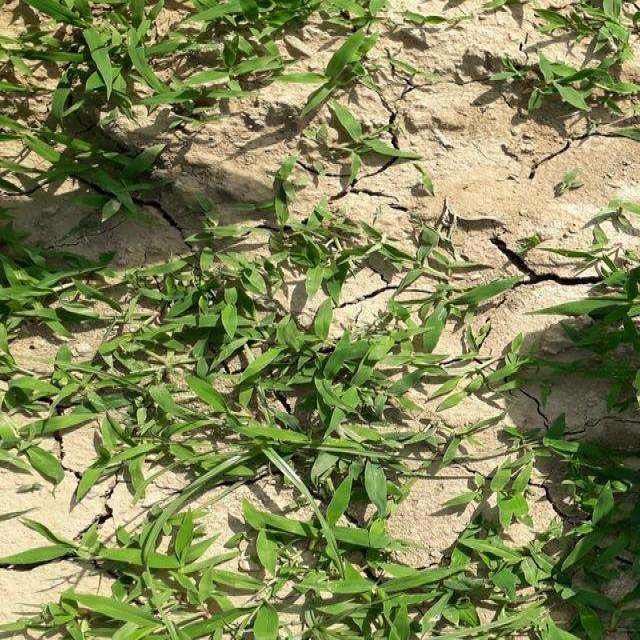weed: (3, 222, 489, 492), (53, 506, 626, 640), (0, 0, 409, 177), (500, 264, 640, 414)
